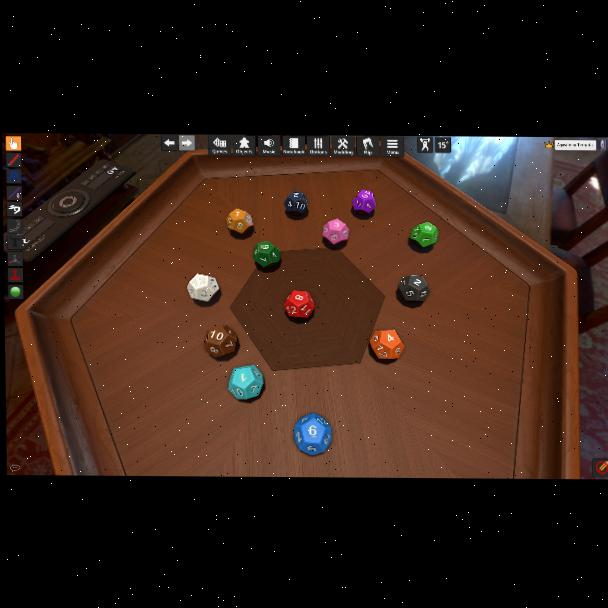d12: (294, 412, 333, 454), (227, 366, 262, 400), (202, 326, 234, 359), (370, 330, 402, 360), (283, 290, 314, 319), (188, 273, 219, 302), (398, 275, 426, 303), (254, 241, 281, 269), (409, 222, 436, 248), (227, 209, 252, 235), (283, 192, 309, 217), (352, 189, 376, 216), (323, 220, 348, 245)
